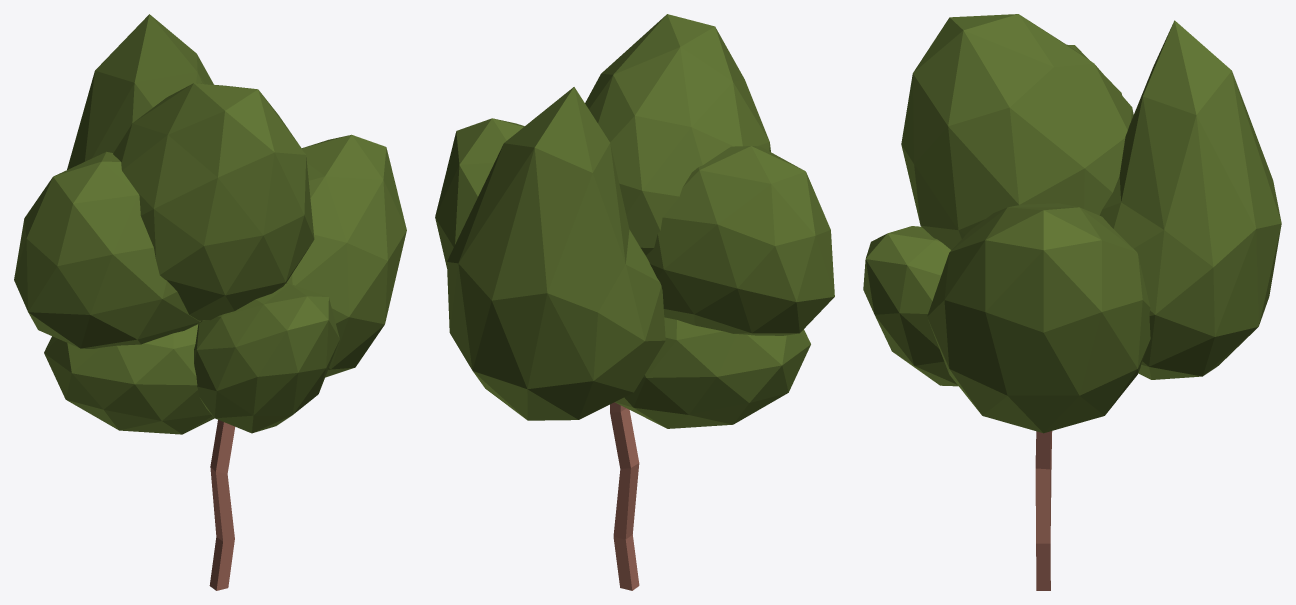
The model's file is tree04.fbx.
3 views of the same model, side by side, from view 1: azimuth 30°, elevation 25°; view 2: azimuth 150°, elevation 25°; view 3: azimuth 270°, elevation 25° (orthographic). The views are drawn at different scales.
Visible parts, largest first — view 1: Tree04; view 2: Tree04; view 3: Tree04.
Boxes of the visible parts, <box> form: Tree04: <box>14,14,406,590</box>; Tree04: <box>435,14,834,590</box>; Tree04: <box>863,14,1281,590</box>.
Bounding box in the file's own units: 536 × 739 × 497.
